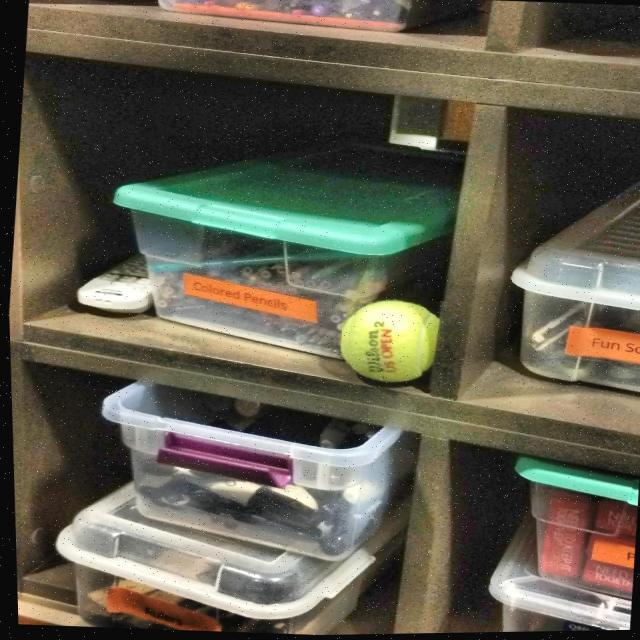tennis-ball: (334, 297, 450, 393)
